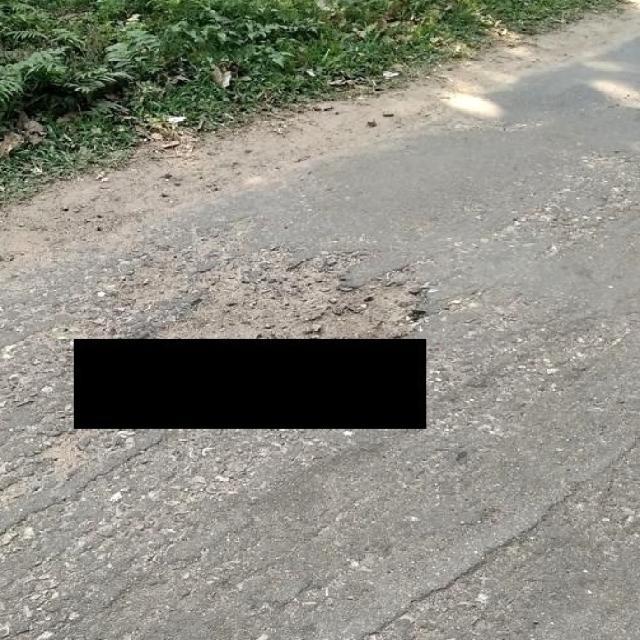road-pothole: (100, 211, 426, 341)
